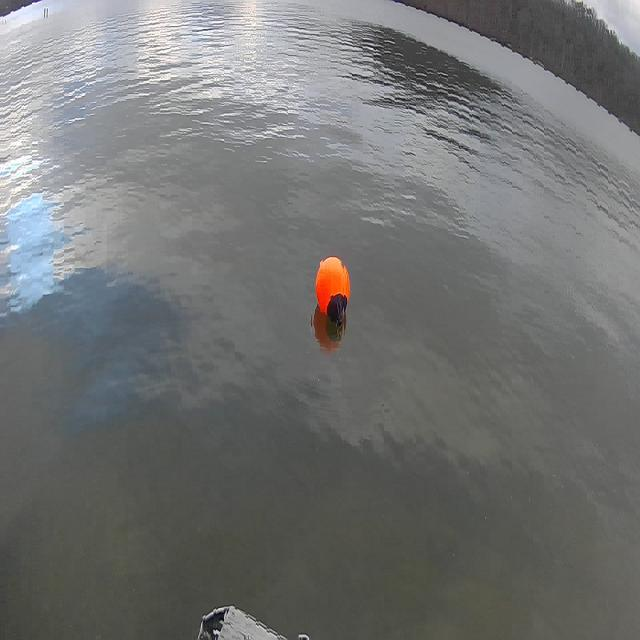Buoy: (308, 244, 358, 330)
